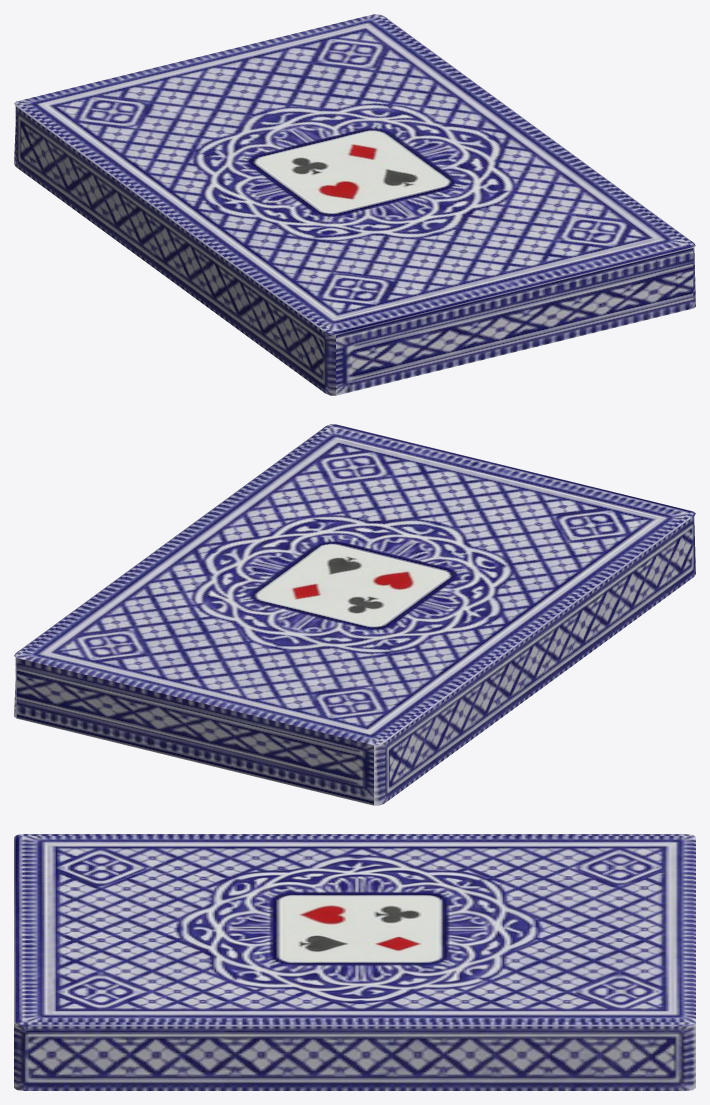
Rendered from lowpoly_cards.glb.
The picture shows the model from 3 angles, top to bottom: view 1: azimuth 30°, elevation 25°; view 2: azimuth 150°, elevation 25°; view 3: azimuth 270°, elevation 25°; orthographic projection. The views are drawn at different scales.
Parts seen in each view (by area): view 1: Cards; view 2: Cards; view 3: Cards.
Boxes of the visible parts, bbox=[...] form: Cards: bbox=[14, 14, 695, 395]; Cards: bbox=[14, 424, 695, 805]; Cards: bbox=[14, 834, 695, 1090].
Bounding box in the file's own units: 0.6 × 0.0971 × 0.9.
Materials: 1 (1 with a texture image).
